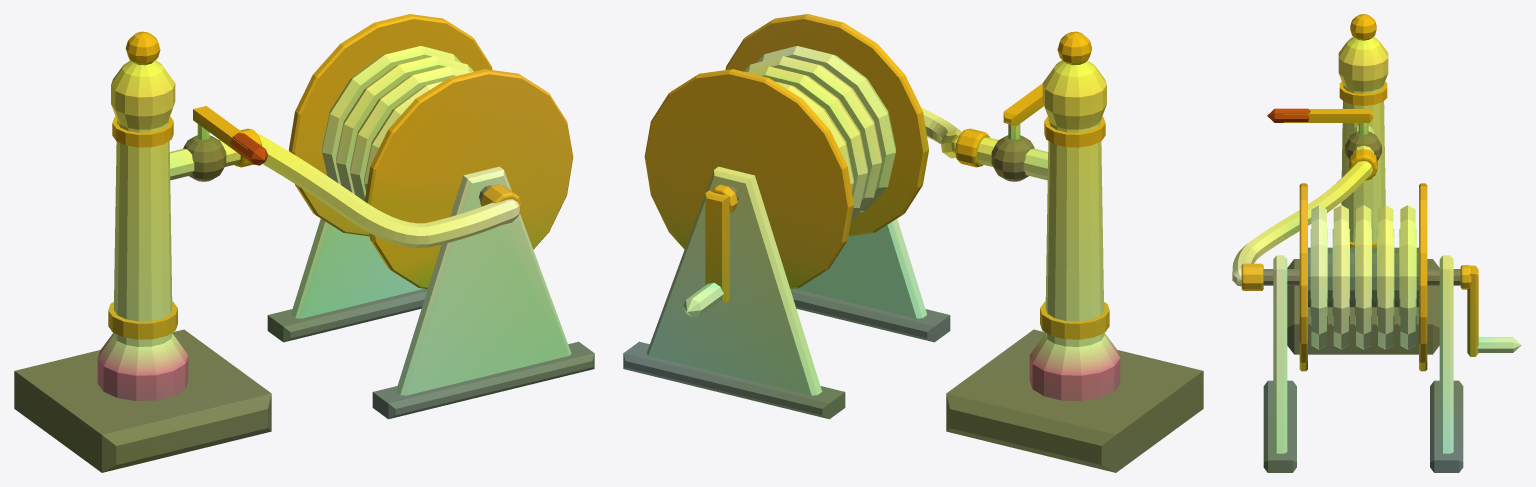
File: Yard_OilPump.fbx
3 views of the same model, side by side, from view 1: azimuth 30°, elevation 25°; view 2: azimuth 150°, elevation 25°; view 3: azimuth 270°, elevation 25° (orthographic). The views are drawn at different scales.
Visible parts, largest first — view 1: Tap, Move_Reel, Move_Valve; view 2: Tap, Move_Reel, Move_Valve; view 3: Tap, Move_Reel, Move_Valve.
Boxes of the visible parts, x1,y1,x2,y2 form: Tap: (14, 31, 594, 472); Move_Reel: (289, 14, 573, 288); Move_Valve: (193, 106, 267, 165); Tap: (623, 31, 1203, 472); Move_Reel: (644, 14, 928, 317); Move_Valve: (1003, 83, 1043, 139); Tap: (1232, 14, 1463, 472); Move_Reel: (1299, 183, 1521, 371); Move_Valve: (1267, 108, 1373, 134).
Bounding box in the file's own units: 1.57 × 1.22 × 1.04.
